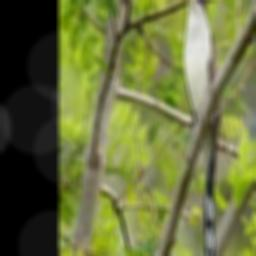Cuckoo: (182, 0, 220, 256)
